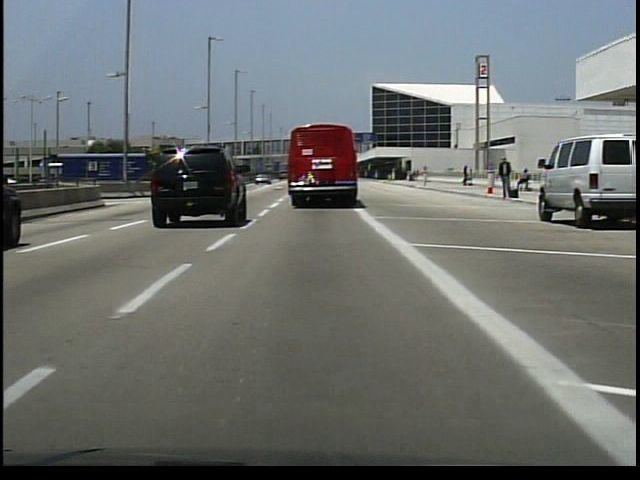person: (494, 155, 517, 206), (514, 167, 532, 195)
